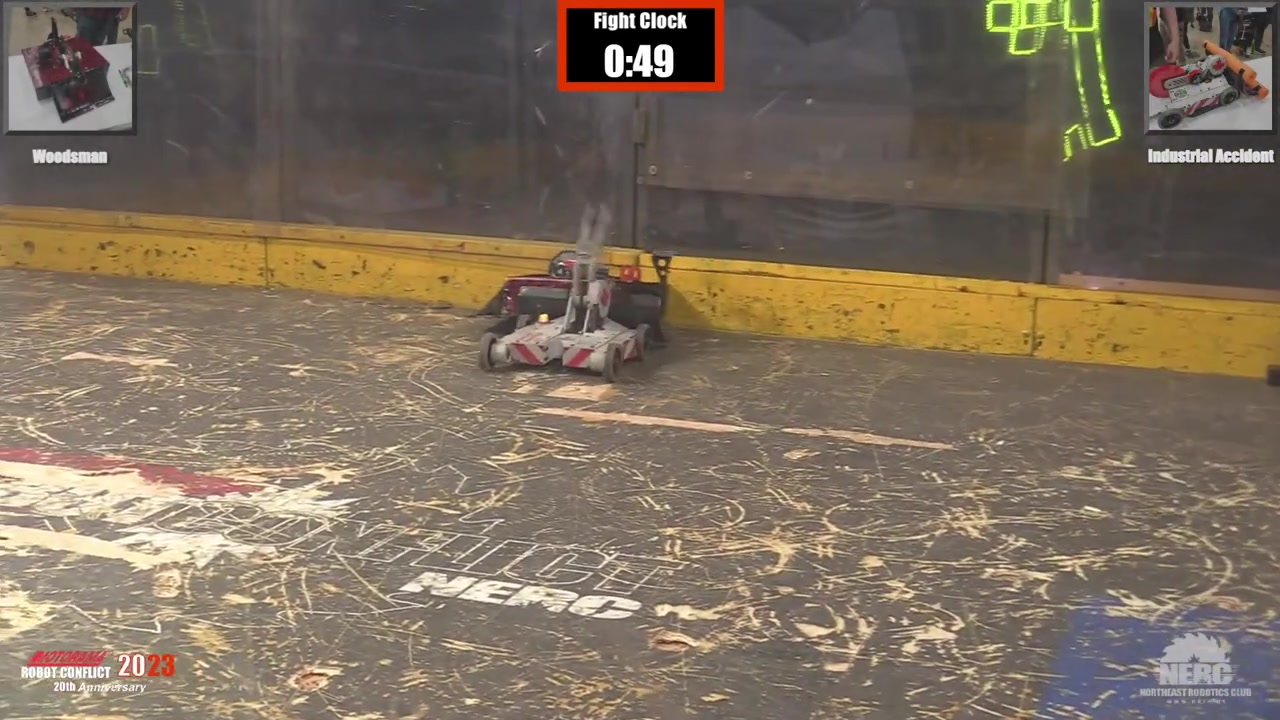belt: (427, 300, 453, 314)
combatbot: (484, 279, 665, 328), (494, 318, 640, 372)
